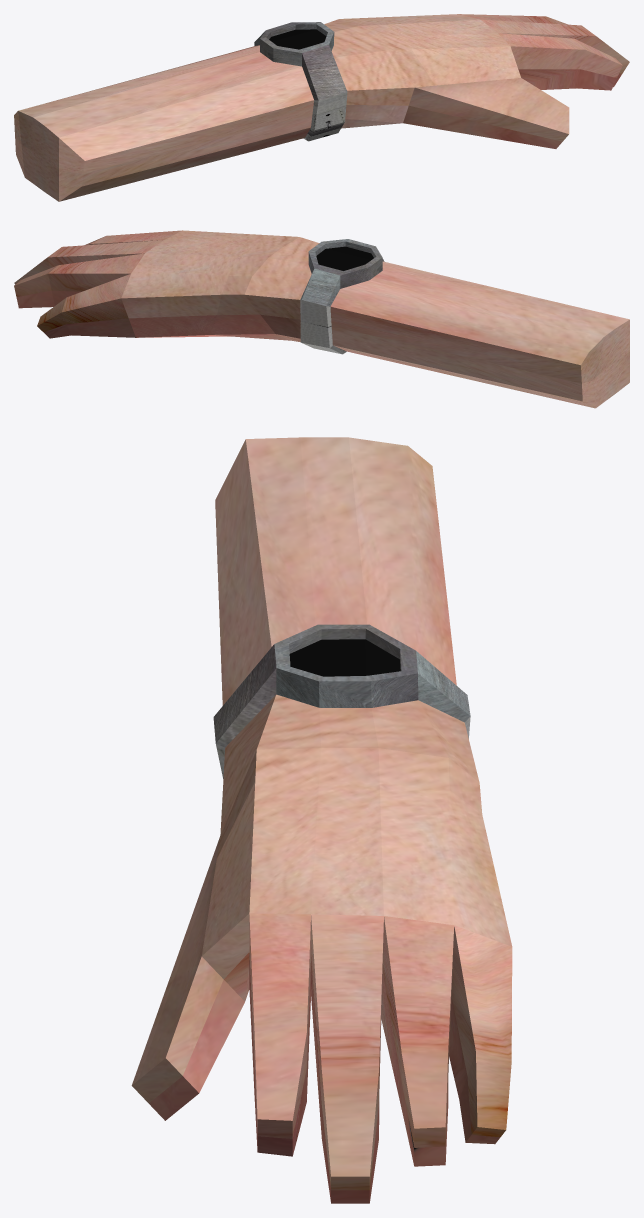
File: arm.fbx
3 renders of one model, top to bottom at view 1: azimuth 30°, elevation 25°; view 2: azimuth 150°, elevation 25°; view 3: azimuth 270°, elevation 25°, orthographic. The views are drawn at different scales.
Visible parts, largest first — view 1: Cube; view 2: Cube; view 3: Cube.
Boxes of the visible parts, x1,y1,x2,y2 form: Cube: (14, 14, 629, 201); Cube: (14, 230, 629, 408); Cube: (131, 437, 512, 1203).
Size of the model in its own units: 1316 by 283 by 371.
